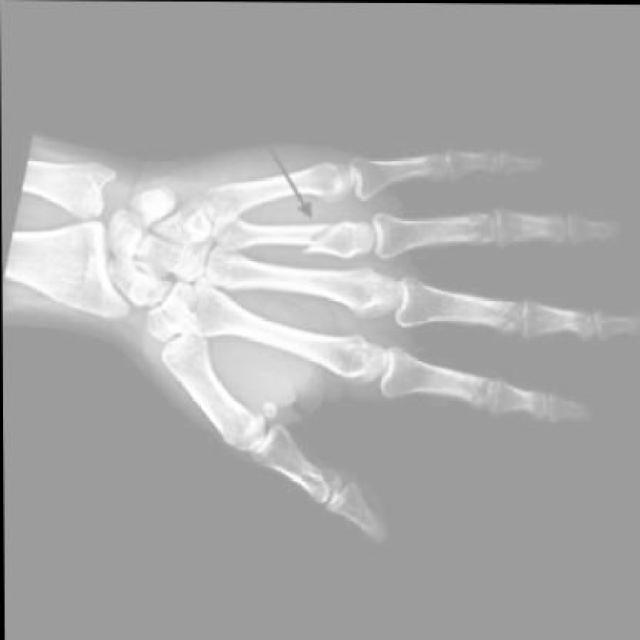Fracture: (297, 217, 355, 275)
